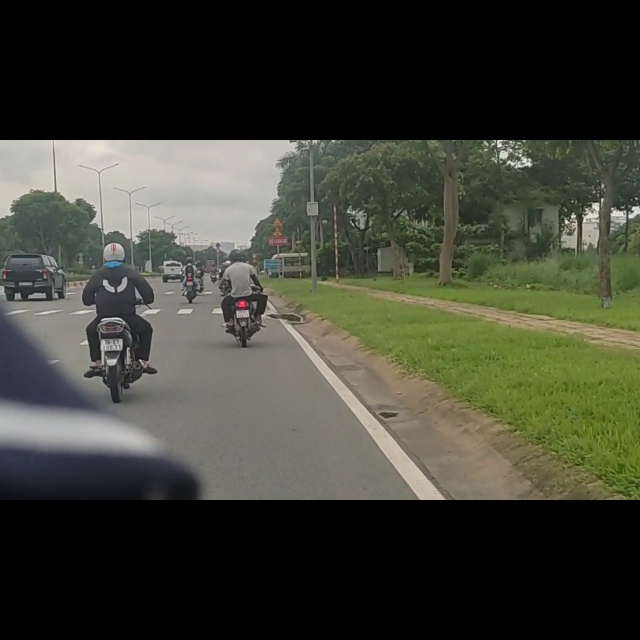bien_cam: (272, 136, 283, 154), (273, 155, 283, 172), (215, 183, 221, 192)
